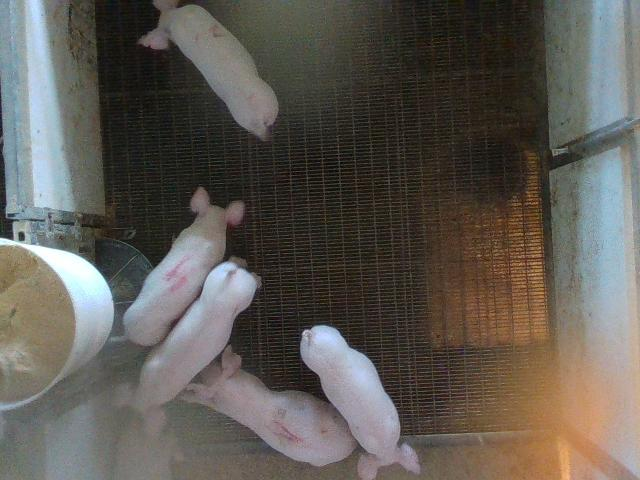pig-4: (124, 186, 245, 346)
